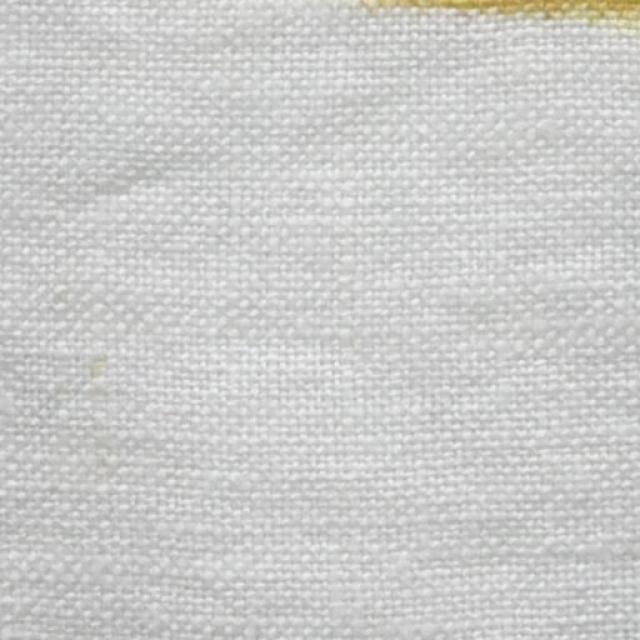Stain: (361, 0, 639, 23)
